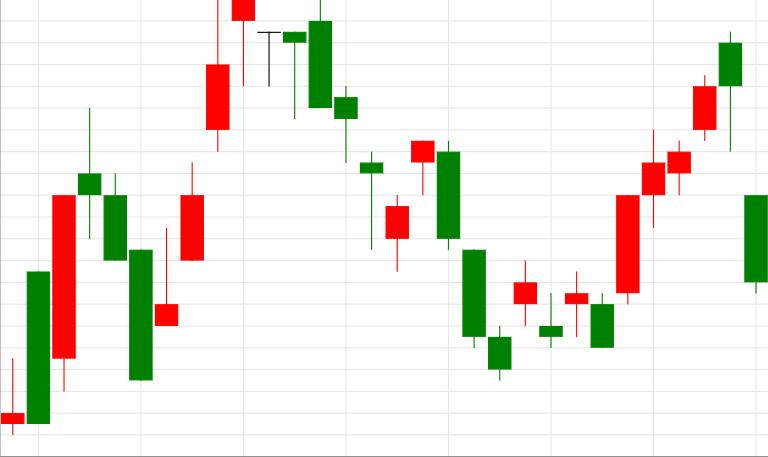evening_star_fall: (1, 108, 127, 436)
hanging_man_fall: (616, 32, 742, 304), (155, 0, 256, 327)
